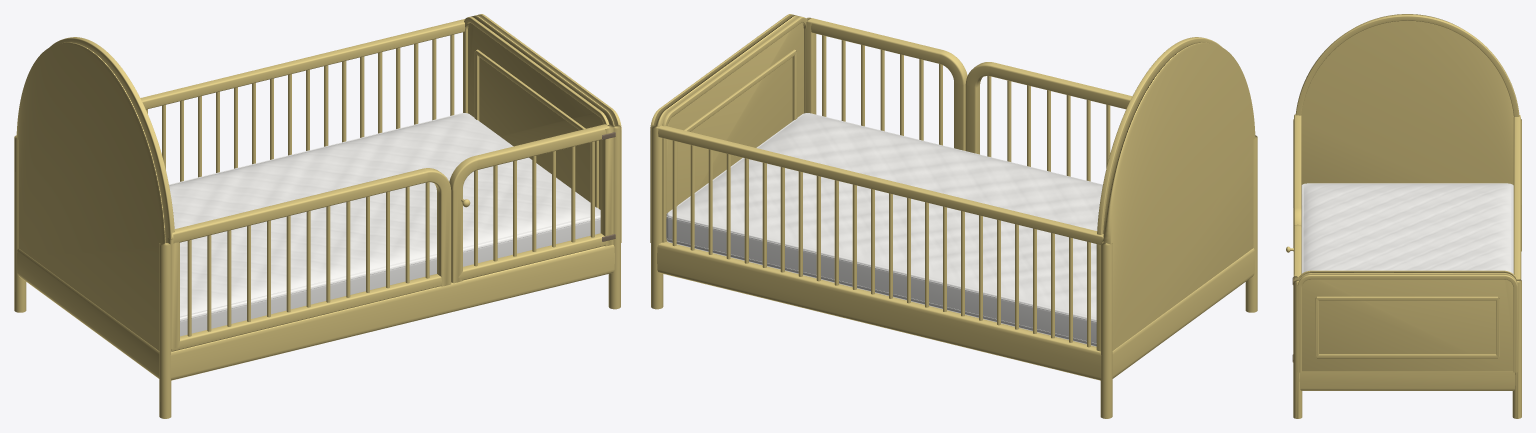
Rendered from yellow_toto3_baby.glb.
The picture shows the model from 3 angles, left to right: view 1: azimuth 30°, elevation 25°; view 2: azimuth 150°, elevation 25°; view 3: azimuth 270°, elevation 25°; orthographic projection. The views are drawn at different scales.
Parts seen in each view (by area): view 1: White diamond quilted comforter, Solid arched headboard, Long base rail, Solid footboard with softened top corners, Fitted ivory mattress covering bed deck 2000 x 1110 x 120 mm, Front guard rounded entry corner, Rounded corner leg (×3), Back upper rail, End base rail, Gate curved latch stile and top rail, Front lower rail, Gate lower rail (+5 smaller); view 2: White diamond quilted comforter, Solid arched headboard, Long base rail, Solid footboard with softened top corners, Fitted ivory mattress covering bed deck 2000 x 1110 x 120 mm, Back upper rail, Rounded corner leg (×3), End base rail, Front guard rounded entry corner, Gate curved latch stile and top rail, Raised rounded arch border, Footboard outer rounded molding (+2 smaller); view 3: Solid arched headboard, Solid footboard with softened top corners, White diamond quilted comforter, End base rail, Footboard outer rounded molding (×2), Raised rounded arch border, Footboard inset horizontal molding (×2), Rounded corner leg (×2), Back upper rail, Front guard rounded entry corner, Fitted ivory mattress covering bed deck 2000 x 1110 x 120 mm, Footboard inset vertical molding (×2) (+1 smaller).
Part boxes in pixels (<box>): White diamond quilted comforter: <box>169,113,600,316</box>; Solid arched headboard: <box>16,41,168,350</box>; Long base rail: <box>170,245,614,380</box>; Solid footboard with softened top corners: <box>468,14,618,209</box>; Fitted ivory mattress covering bed deck 2000 x 1110 x 120 mm: <box>169,113,600,336</box>; Front guard rounded entry corner: <box>172,168,451,286</box>; Rounded corner leg (×3): <box>14,125,620,418</box>; Back upper rail: <box>140,19,465,109</box>; End base rail: <box>17,248,159,378</box>; Gate curved latch stile and top rail: <box>449,124,609,283</box>; Front lower rail: <box>171,274,441,351</box>; Gate lower rail: <box>458,233,605,280</box>; White diamond quilted comforter: <box>669,113,1102,317</box>; Solid arched headboard: <box>1103,41,1255,350</box>; Long base rail: <box>657,242,1101,380</box>; Solid footboard with softened top corners: <box>653,14,803,213</box>; Fitted ivory mattress covering bed deck 2000 x 1110 x 120 mm: <box>666,113,1102,346</box>; Back upper rail: <box>658,125,1103,244</box>; Rounded corner leg (×3): <box>651,125,1257,418</box>; End base rail: <box>1112,248,1254,378</box>; Front guard rounded entry corner: <box>965,62,1132,154</box>; Gate curved latch stile and top rail: <box>807,18,967,150</box>; Raised rounded arch border: <box>1096,37,1222,351</box>; Footboard outer rounded molding: <box>662,16,807,242</box>; Solid arched headboard: <box>1301,14,1513,184</box>; Solid footboard with softened top corners: <box>1298,271,1516,371</box>; White diamond quilted comforter: <box>1303,184,1511,272</box>; End base rail: <box>1299,371,1515,390</box>; Footboard outer rounded molding (×2): <box>1297,270,1517,372</box>; Raised rounded arch border: <box>1295,14,1519,116</box>; Footboard inset horizontal molding (×2): <box>1317,296,1497,358</box>; Rounded corner leg (×2): <box>1293,279,1521,418</box>; Back upper rail: <box>1513,115,1520,279</box>; Front guard rounded entry corner: <box>1294,114,1301,225</box>; Fitted ivory mattress covering bed deck 2000 x 1110 x 120 mm: <box>1301,183,1513,273</box>; Footboard inset vertical molding (×2): <box>1315,298,1499,356</box>.
Size of the model in its own units: 2.1 by 1.37 by 1.22.
